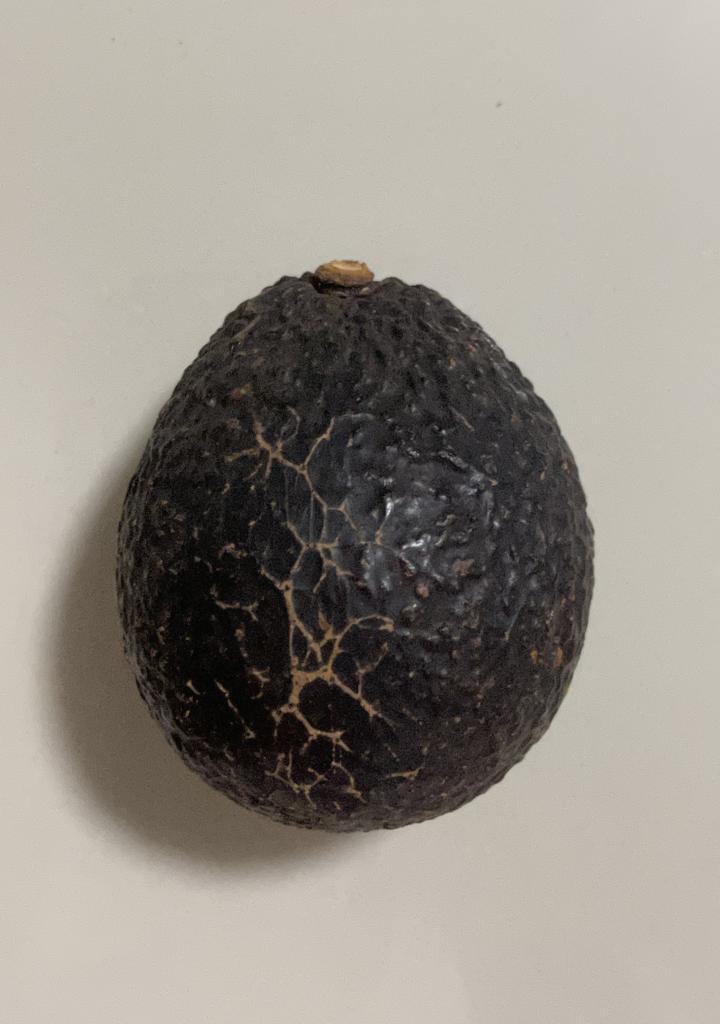Level3: (102, 244, 608, 846)
